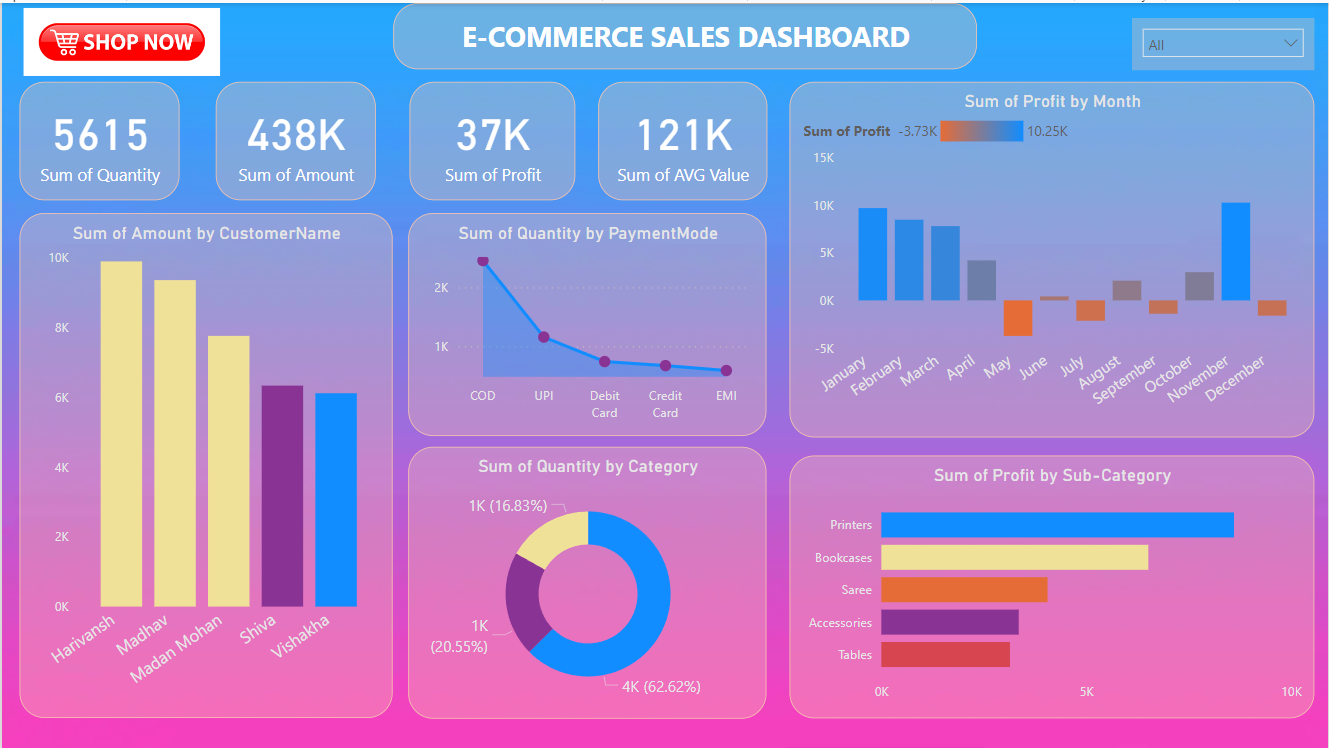

Layout of this report page (visuals, bound fields, positions):
{"tool":"powerbi","page":{"name":"Page 1","canvas":[1280,720],"ordinal":0},"visuals":[{"type":"columnChart","fields":{"Y":["Sum(Details.Profit)"],"Category":["Orders.Order Date.Variation.Date Hierarchy.Month"]},"box":[760.2,75.5,506.3,343.1],"z":0},{"type":"barChart","fields":{"Category":["Details.Sub-Category"],"Y":["Sum(Details.Profit)"]},"box":[760.2,436.4,506.3,253.9],"z":1000},{"type":"donutChart","fields":{"Category":["Details.Category"],"Y":["Sum(Details.Quantity)"]},"box":[392.5,428.1,345.8,262.1],"z":2000},{"type":"stackedAreaChart","fields":{"Category":["Details.PaymentMode"],"Y":["Sum(Details.Quantity)"]},"box":[392.5,203.1,345.8,215.4],"z":3000},{"type":"card","fields":{"Values":["Sum(Details.Amount)"]},"box":[205.7,75.7,154.3,114.3],"z":4000},{"type":"card","fields":{"Values":["Sum(Details.Quantity)"]},"box":[17.1,75.7,154.3,114.3],"z":5000},{"type":"card","fields":{"Values":["Sum(Details.Profit)"]},"box":[392.9,75.7,160,114.3],"z":6000},{"type":"card","fields":{"Values":["Sum(Details.AVG Value)"]},"box":[575.7,75.7,162.9,114.3],"z":7000},{"type":"columnChart","fields":{"Category":["Orders.CustomerName"],"Y":["Sum(Details.Amount)"]},"box":[17.1,202.9,360,487.1],"z":8000},{"type":"textbox","box":[377.1,0,562.9,64.3],"z":9000},{"type":"image","box":[0,0,231.4,75.7],"z":10000},{"type":"slicer","fields":{"Values":["Orders.State"]},"box":[1090,14.3,175.7,50],"z":11000}]}

Visuals, with their boxes in screenshot pixels (x1, y1, x2, y2), scaled from the page's 1280x720 canvas onto the 1329x748 screenshot:
columnChart - Sum(Details.Profit) x Orders.Order Date.Variation.Date Hierarchy.Month: (789, 78, 1315, 435)
barChart - Details.Sub-Category x Sum(Details.Profit): (789, 453, 1315, 717)
donutChart - Details.Category x Sum(Details.Quantity): (408, 445, 767, 717)
stackedAreaChart - Details.PaymentMode x Sum(Details.Quantity): (408, 211, 767, 435)
card - Sum(Details.Amount): (214, 79, 374, 197)
card - Sum(Details.Quantity): (18, 79, 178, 197)
card - Sum(Details.Profit): (408, 79, 574, 197)
card - Sum(Details.AVG Value): (598, 79, 767, 197)
columnChart - Orders.CustomerName x Sum(Details.Amount): (18, 211, 392, 717)
textbox: (392, 0, 976, 67)
image: (0, 0, 240, 79)
slicer - Orders.State: (1132, 15, 1314, 67)
